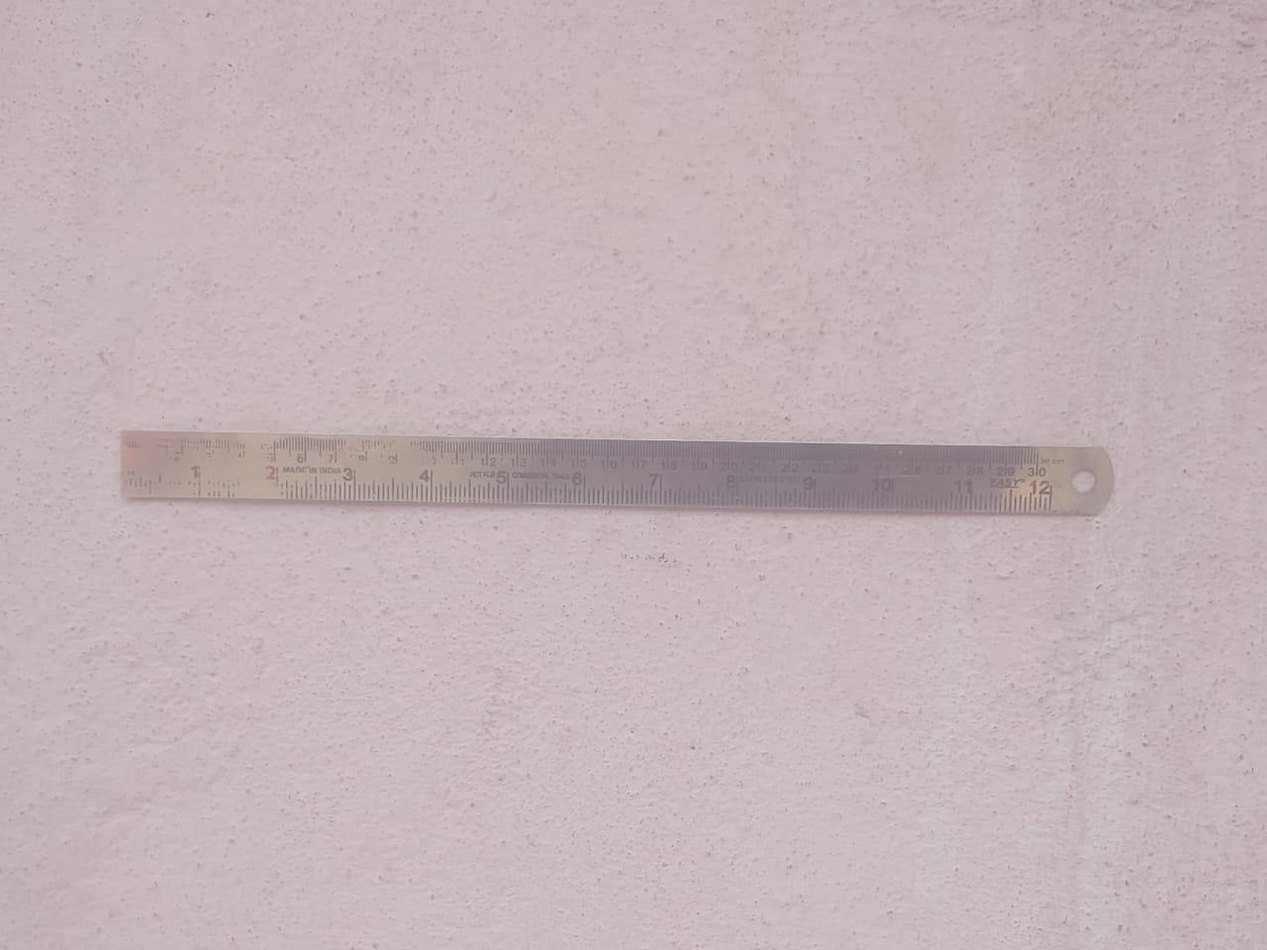scale: (127, 442, 1115, 513)
